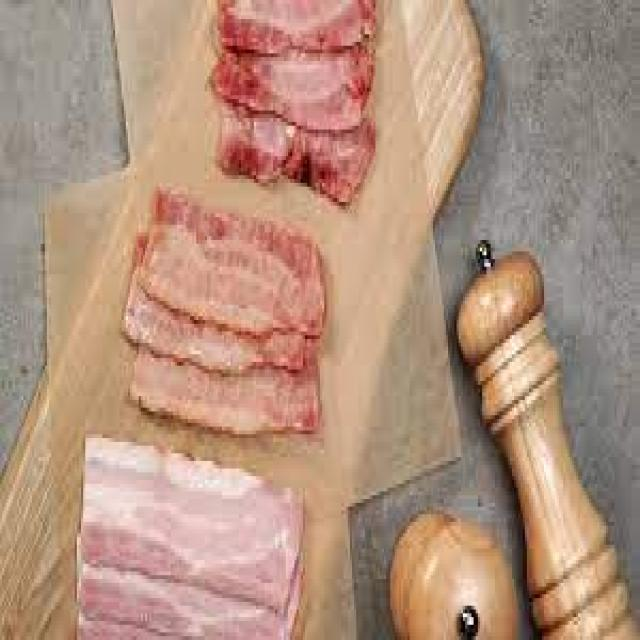bacon: (107, 179, 332, 437), (78, 430, 314, 640), (193, 0, 389, 214)
